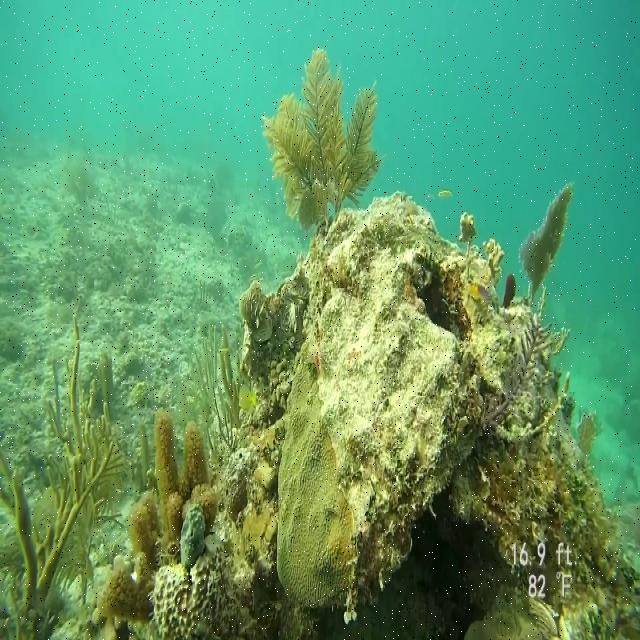aquatic plants: (0, 309, 132, 639), (259, 45, 380, 226), (177, 321, 255, 464), (520, 183, 574, 301)
reefs: (96, 410, 220, 624)
sea-floor: (127, 191, 639, 639)
